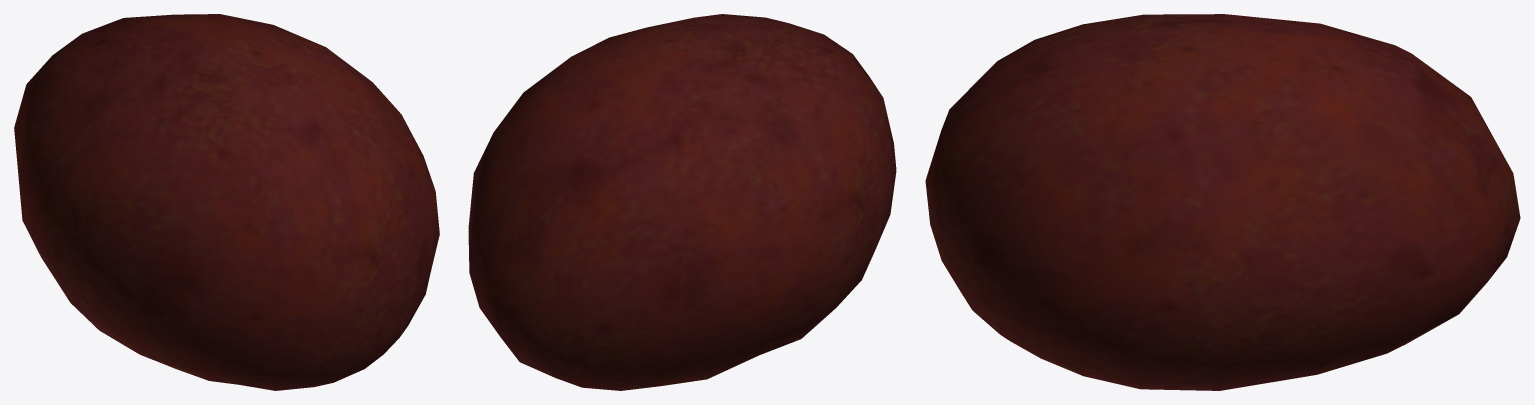
File: Potato_23.obj
The picture shows the model from 3 angles, left to right: view 1: azimuth 30°, elevation 25°; view 2: azimuth 150°, elevation 25°; view 3: azimuth 270°, elevation 25°; orthographic projection. The views are drawn at different scales.
Visible parts, largest first — view 1: potato_c3; view 2: potato_c3; view 3: potato_c3.
Boxes of the visible parts, x1,y1,x2,y2 form: potato_c3: (14, 14, 439, 390); potato_c3: (468, 14, 896, 390); potato_c3: (925, 14, 1520, 390).
Size of the model in its own units: 0.0729 by 0.0614 by 0.1012.
